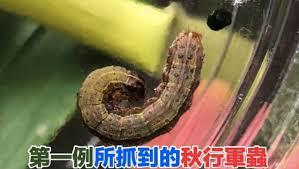fallarmy_worm: (75, 30, 203, 142)
